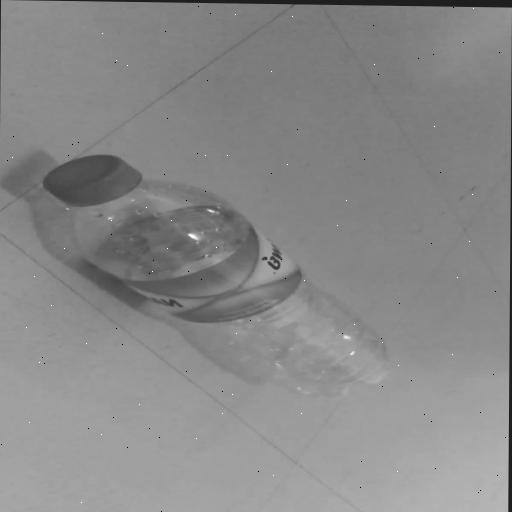bottle: (29, 133, 413, 421)
